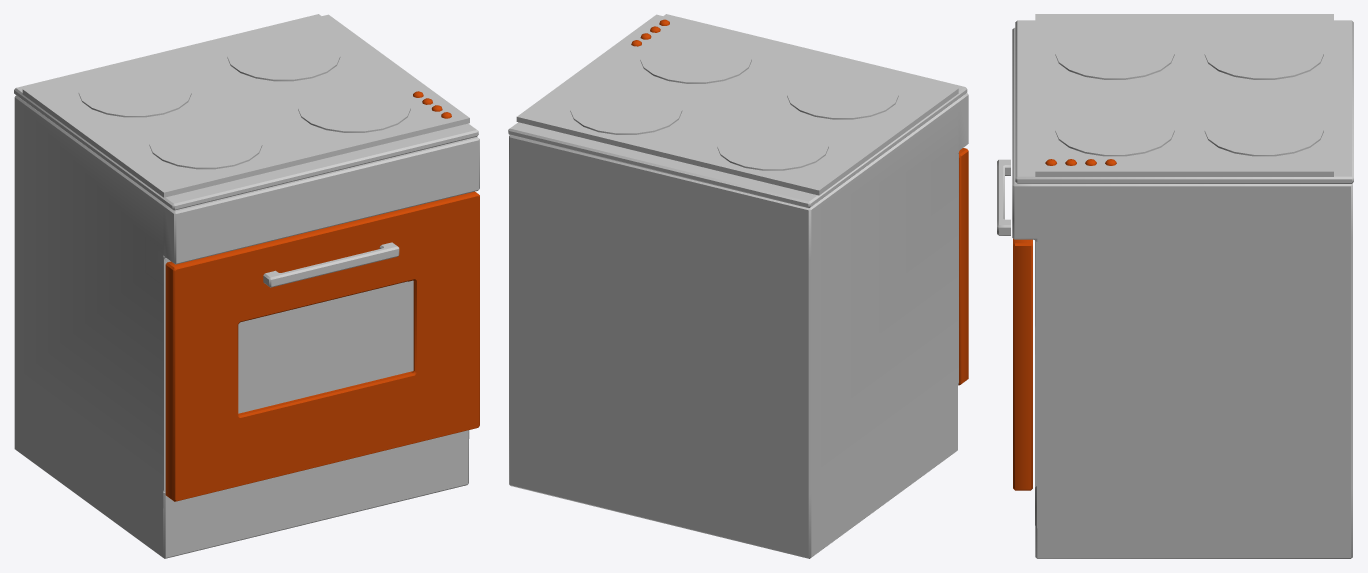
File: oven.fbx
3 renders of one model, left to right at view 1: azimuth 30°, elevation 25°; view 2: azimuth 150°, elevation 25°; view 3: azimuth 270°, elevation 25°, orthographic. The views are drawn at different scales.
Parts seen in each view (by area): view 1: body, door, panel, glass, piano, Mesh_ncl1_1, Mesh_ncl1_3, Mesh_ncl1_2, handle; view 2: body, panel, piano, Mesh_ncl1_1, Mesh_ncl1_2, Mesh_ncl1_3, door; view 3: body, panel, piano, door, Mesh_ncl1_1, Mesh_ncl1_3, Mesh_ncl1_2, handle.
Part boxes in pixels (x1=…): body: x1=14, y1=95, x2=479, y2=558; door: x1=165, y1=191, x2=479, y2=501; panel: x1=22, y1=14, x2=469, y2=197; glass: x1=238, y1=280, x2=413, y2=413; piano: x1=14, y1=14, x2=478, y2=210; Mesh_ncl1_1: x1=149, y1=120, x2=262, y2=169; Mesh_ncl1_3: x1=227, y1=32, x2=340, y2=81; Mesh_ncl1_2: x1=298, y1=84, x2=410, y2=132; handle: x1=263, y1=242, x2=399, y2=287; body: x1=509, y1=93, x2=968, y2=558; panel: x1=516, y1=14, x2=958, y2=195; piano: x1=508, y1=14, x2=967, y2=207; Mesh_ncl1_1: x1=787, y1=71, x2=898, y2=119; Mesh_ncl1_2: x1=640, y1=35, x2=751, y2=83; Mesh_ncl1_3: x1=570, y1=87, x2=682, y2=134; door: x1=958, y1=148, x2=968, y2=385; body: x1=1012, y1=27, x2=1352, y2=558; panel: x1=1035, y1=14, x2=1333, y2=176; piano: x1=1015, y1=20, x2=1353, y2=183; door: x1=1013, y1=238, x2=1032, y2=490; Mesh_ncl1_1: x1=1055, y1=28, x2=1174, y2=79; Mesh_ncl1_3: x1=1204, y1=105, x2=1323, y2=156; Mesh_ncl1_2: x1=1055, y1=105, x2=1174, y2=156; handle: x1=997, y1=159, x2=1010, y2=235.
Size of the model in its own units: 94 by 109 by 89.6.
